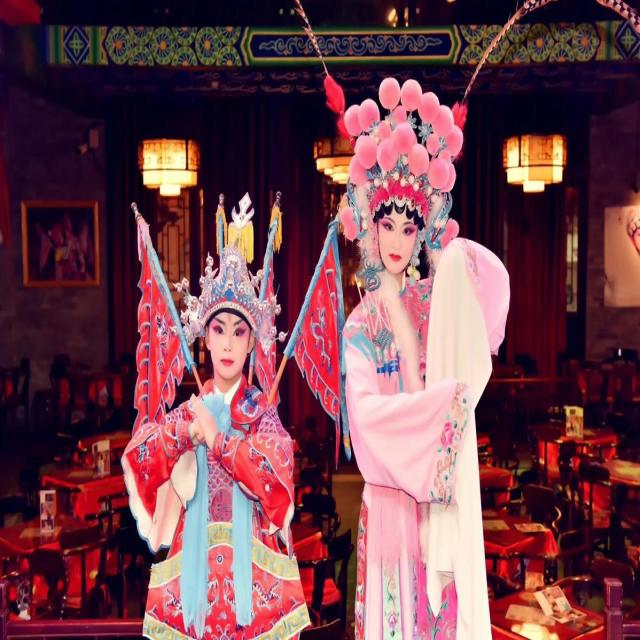Reeves-s Pheasant: (464, 0, 556, 100), (596, 0, 639, 36)
